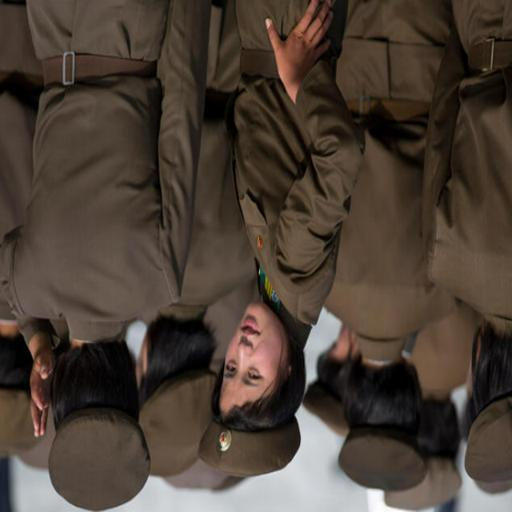north army: (70, 1, 426, 450)
